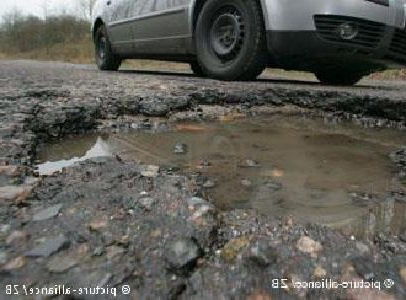pothole: (18, 82, 406, 255)
